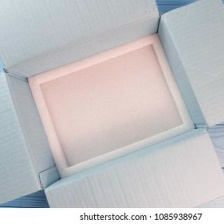foam_box: (21, 27, 199, 182)
